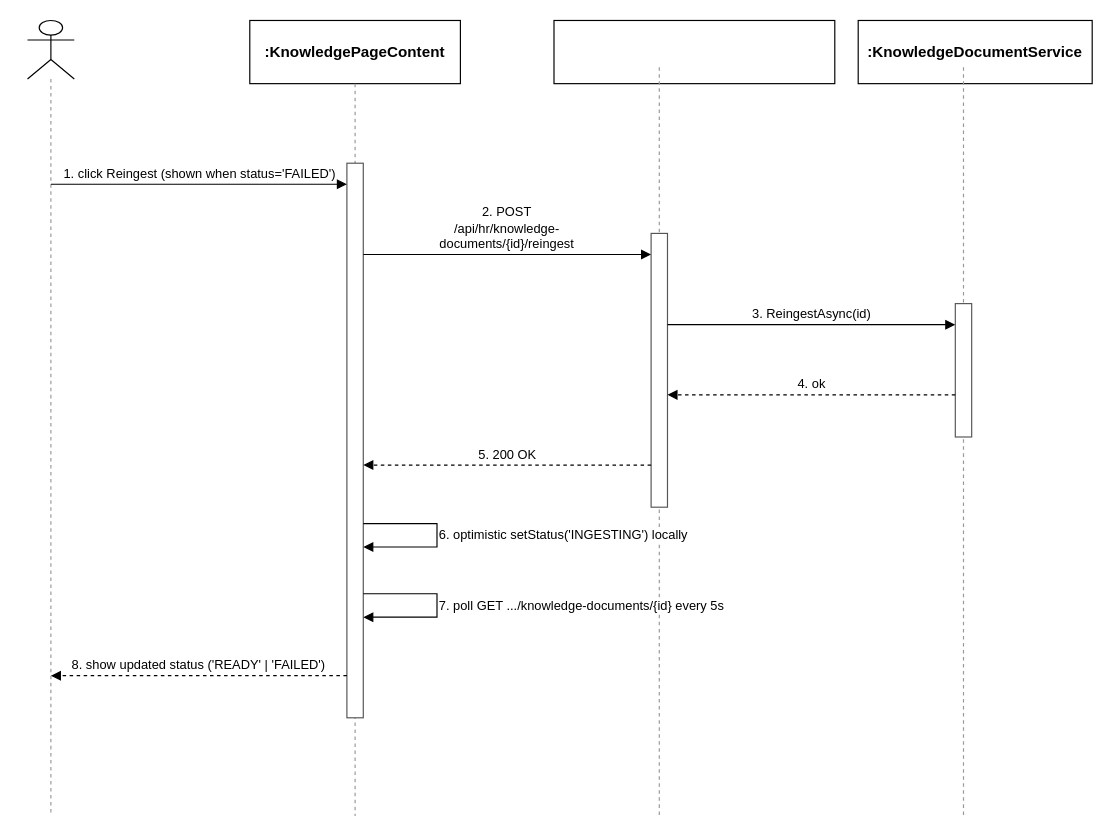
This 1113x838 diagram has some shape labels left out. The centre of each missing label's shape, as x and y in pixels:
:HrKnowledgeDocumentsController: point (694, 51)
HR Manager: point (50, 49)
